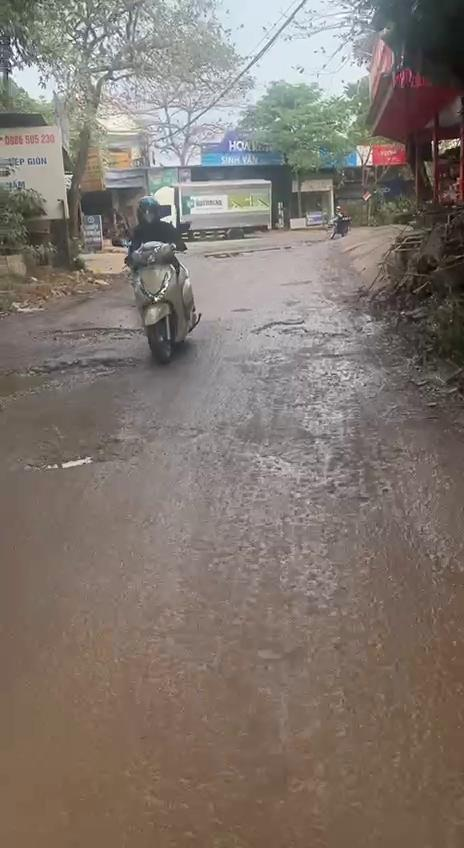pothole: (0, 345, 129, 401), (4, 433, 152, 474), (250, 317, 341, 346), (48, 322, 142, 344)
